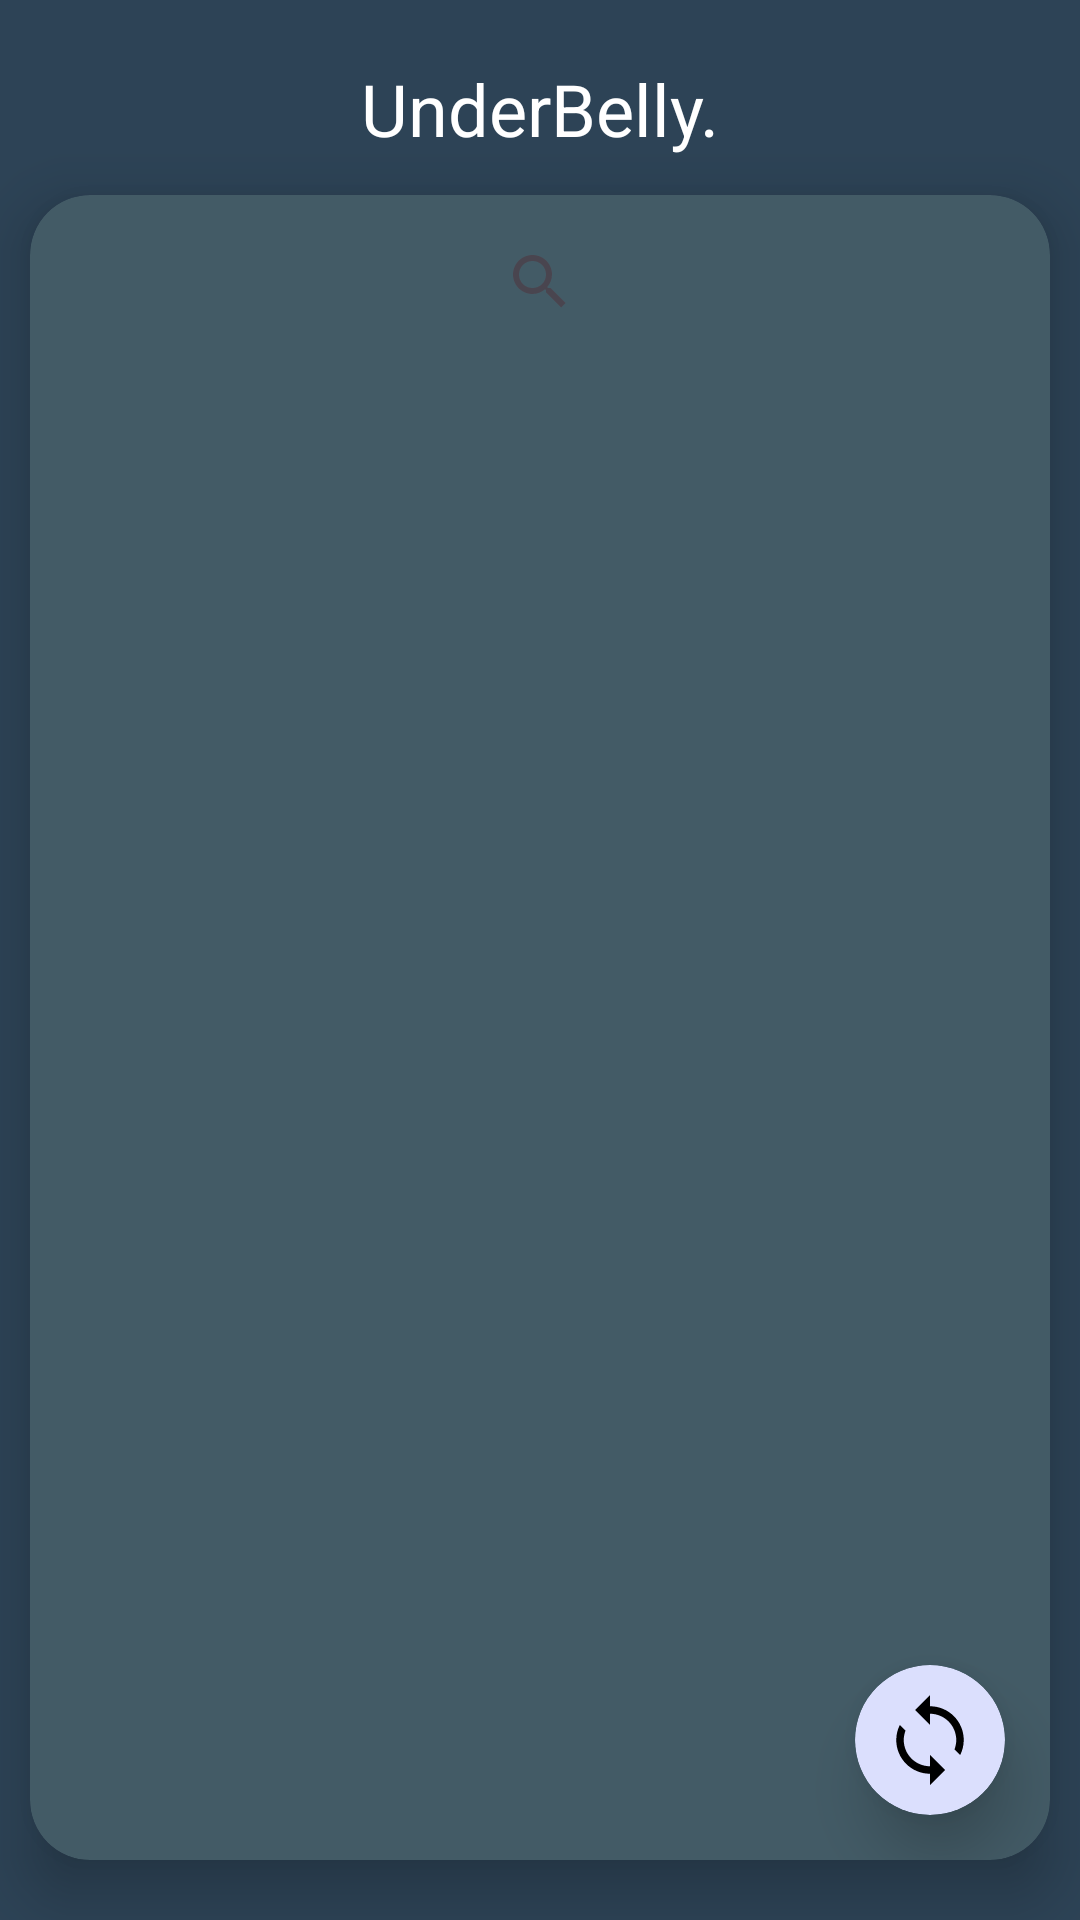

Screen size 1080×1920. Icon name, then its box in pixels as [x1,y1,x2,y2]:
reload: [896,1695,964,1785]
